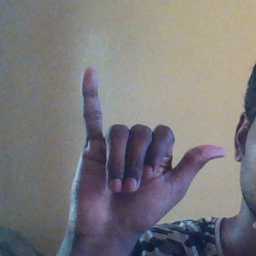J: (64, 65, 225, 233)
